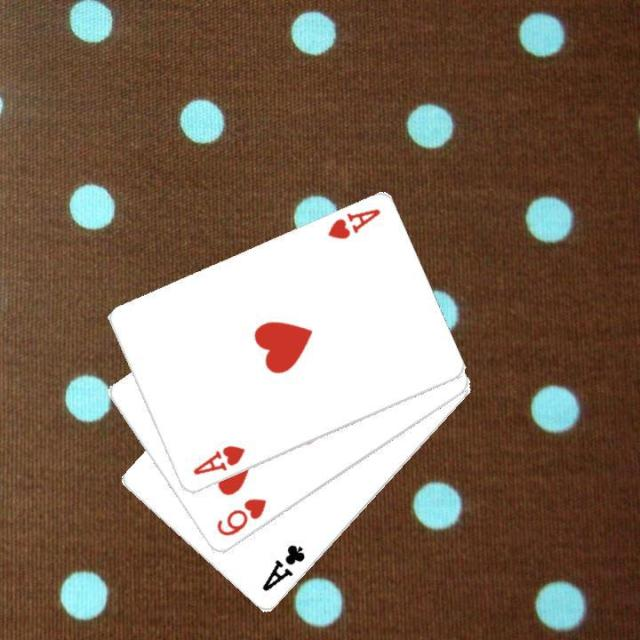6H: (212, 494, 268, 539)
AC: (258, 540, 308, 594)
AH: (324, 204, 382, 242), (189, 442, 247, 477)
